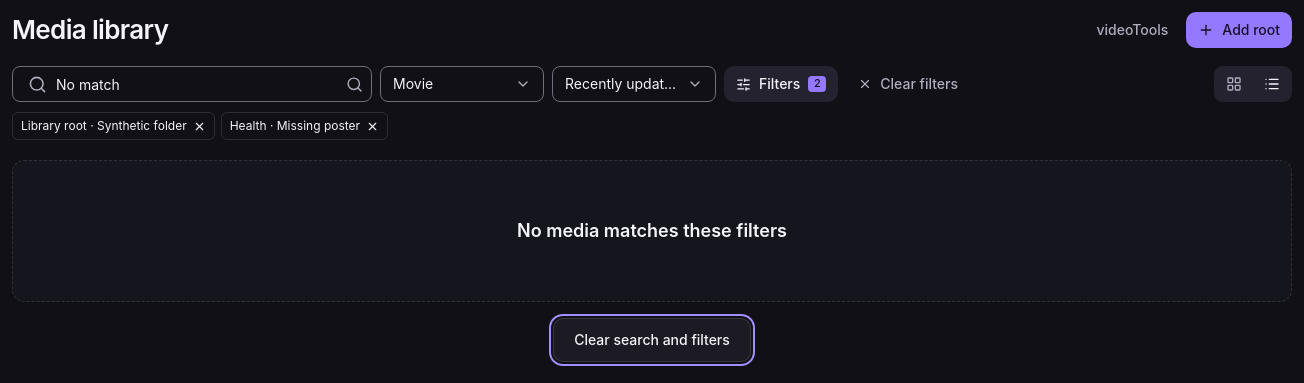
Test: clears an empty search in place while retaining its folder, media type and layout
Check: the heading "No media matches these filters" is shown, box [517,217,787,245]
Click the button "Clear search and filters".
click(652, 340)  # box [553,318,751,362]
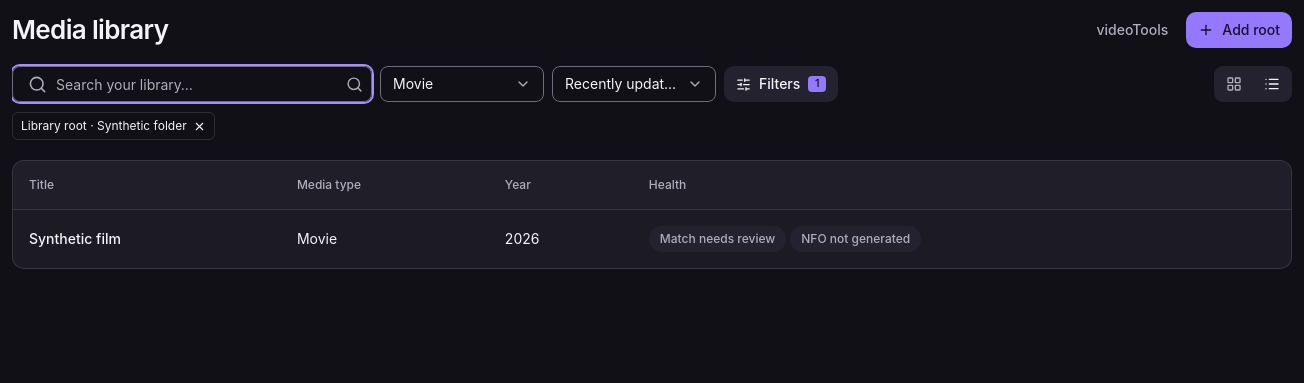
Check: the search field is empty, box [12,66,372,102]
Check: the link with aria-label "Details: Synthetic film" is shown, box [29,228,121,248]
Check: the button "Clear search and filters" is gone
